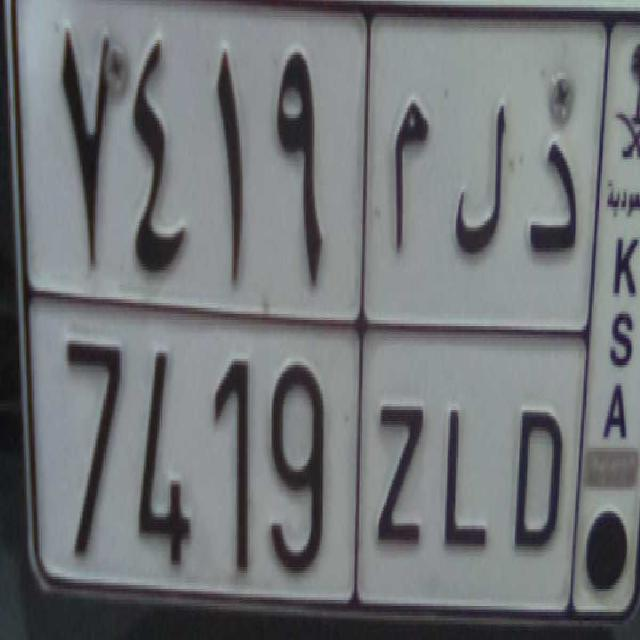license_plate: (36, 282, 574, 610)
